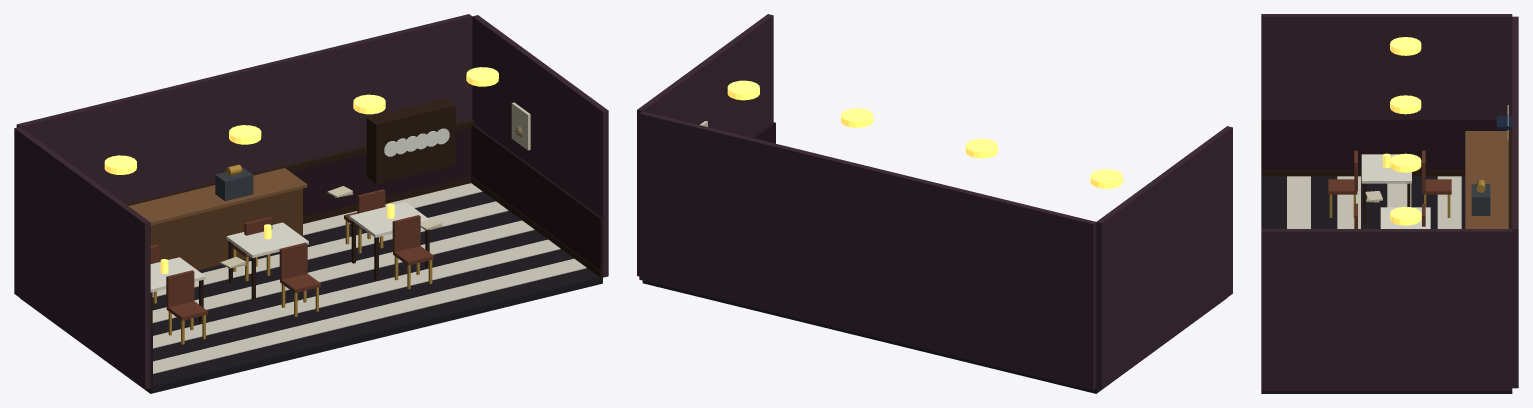
File: me_dining.glb
3 views of the same model, side by side, from view 1: azimuth 30°, elevation 25°; view 2: azimuth 150°, elevation 25°; view 3: azimuth 270°, elevation 25° (orthographic). The views are drawn at different scales.
Visible parts, largest first — view 1: WallBack, WallLeft, WallRight, BandRight, Plank0, Counter, Plank1, Plank2, PlateRack, BandBack, Plank3, Plank4 (+26 smaller); view 2: WallBack, WallLeft, WallRight, Floor, Pendant1, Pendant3, Pendant0, Pendant2; view 3: WallRight, WallLeft, BandLeft, CounterTop, WallBack, Floor, Plank0, Plank1, Plank2, DT0Top, Plank7, SkirtLeft (+14 smaller).
Part boxes in pixels (bbox=[...]): WallBack: bbox=[16, 14, 472, 204]; WallLeft: bbox=[14, 127, 150, 389]; WallRight: bbox=[472, 15, 608, 277]; BandRight: bbox=[471, 124, 602, 275]; Plank0: bbox=[153, 268, 599, 386]; Counter: bbox=[150, 188, 302, 270]; Plank1: bbox=[153, 258, 586, 373]; Plank2: bbox=[153, 249, 573, 361]; PlateRack: bbox=[366, 98, 455, 183]; BandBack: bbox=[291, 128, 471, 217]; Plank3: bbox=[153, 239, 560, 348]; Plank4: bbox=[152, 230, 547, 335]; WallBack: bbox=[639, 111, 1096, 390]; WallLeft: bbox=[1096, 126, 1232, 389]; WallRight: bbox=[637, 14, 773, 276]; Floor: bbox=[642, 280, 1226, 393]; Pendant1: bbox=[965, 138, 997, 158]; Pendant3: bbox=[727, 80, 759, 100]; Pendant0: bbox=[1090, 169, 1122, 188]; Pendant2: bbox=[841, 108, 873, 127]; WallRight: bbox=[1261, 229, 1512, 390]; WallLeft: bbox=[1261, 14, 1512, 118]; BandLeft: bbox=[1261, 119, 1507, 170]; CounterTop: bbox=[1465, 131, 1508, 228]; WallBack: bbox=[1512, 16, 1518, 388]; Floor: bbox=[1261, 177, 1512, 393]; Plank0: bbox=[1262, 176, 1285, 228]; Plank1: bbox=[1287, 176, 1310, 228]; Plank2: bbox=[1312, 176, 1335, 228]; DT0Top: bbox=[1361, 154, 1411, 183]; Plank7: bbox=[1437, 176, 1461, 228]; SkirtLeft: bbox=[1261, 170, 1465, 177].
Bounding box in the file's own units: 8.2 × 2.9 × 4.1.
